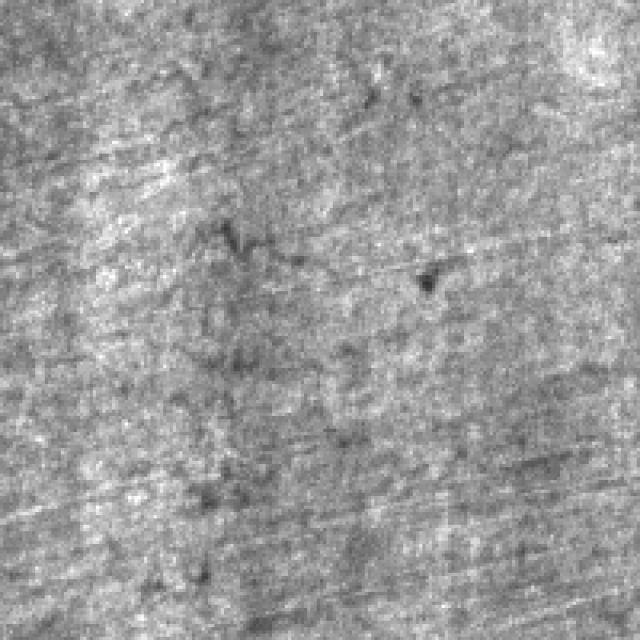crazing: (160, 179, 397, 429)
